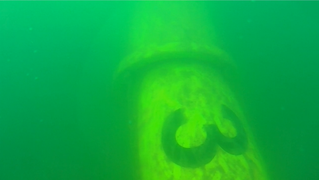3: (161, 102, 249, 169)
pipe: (112, 1, 270, 179)
